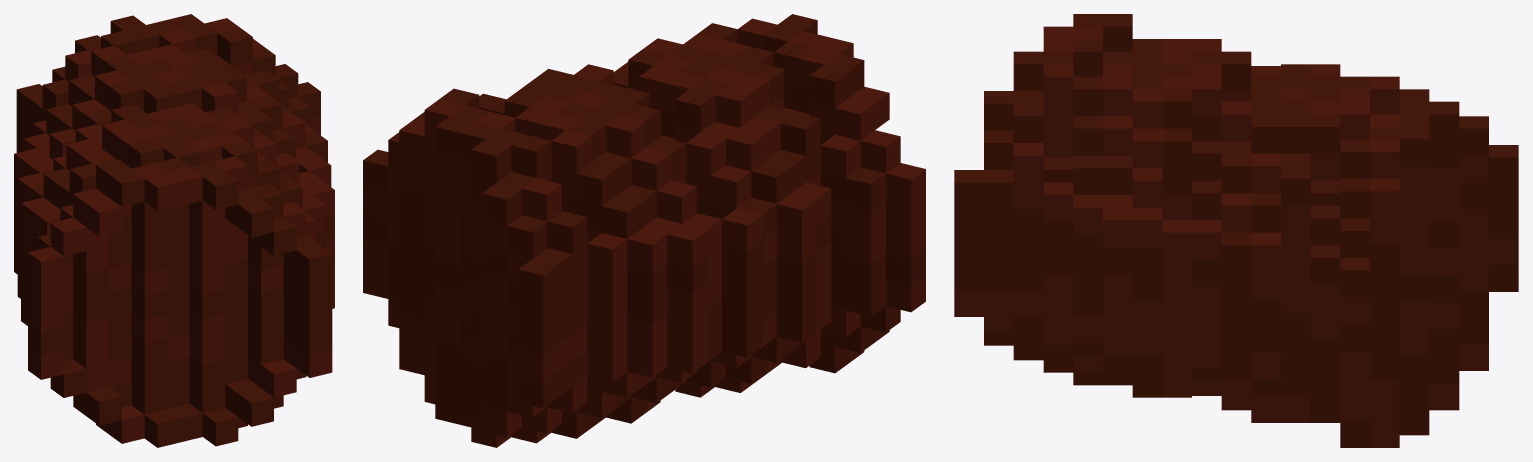
The model's file is lvl1-2.obj.
3 views of the same model, side by side, from view 1: azimuth 30°, elevation 25°; view 2: azimuth 150°, elevation 25°; view 3: azimuth 270°, elevation 25° (orthographic). The views are drawn at different scales.
Bounding box in the file's own units: 1.7 × 1.1 × 1.9.
Materials: 1 (1 with a texture image).
